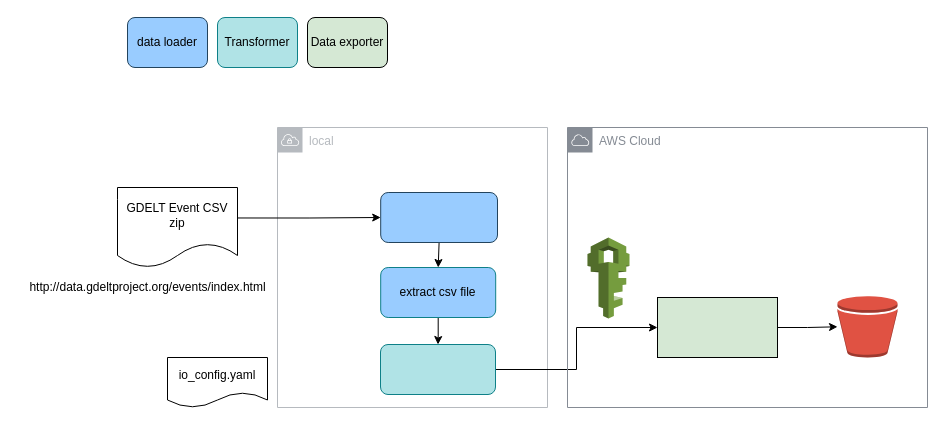
This 945x425 diagram has some shape labels left out. Each missing label, with the centre of its shape:
"download raw file" goes at point (439, 217).
"gdelt.raw.events" goes at point (867, 326).
"map fields subset" goes at point (438, 369).
"store raw data in S3" goes at point (717, 327).
